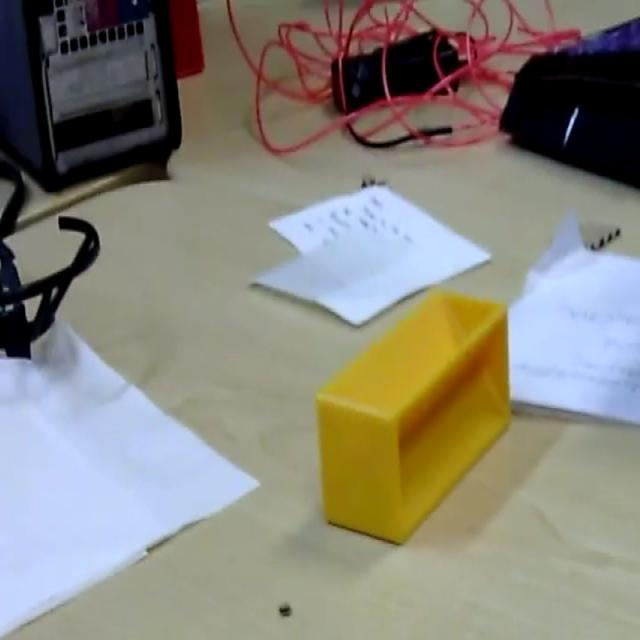yellow_block: (314, 288, 512, 544)
